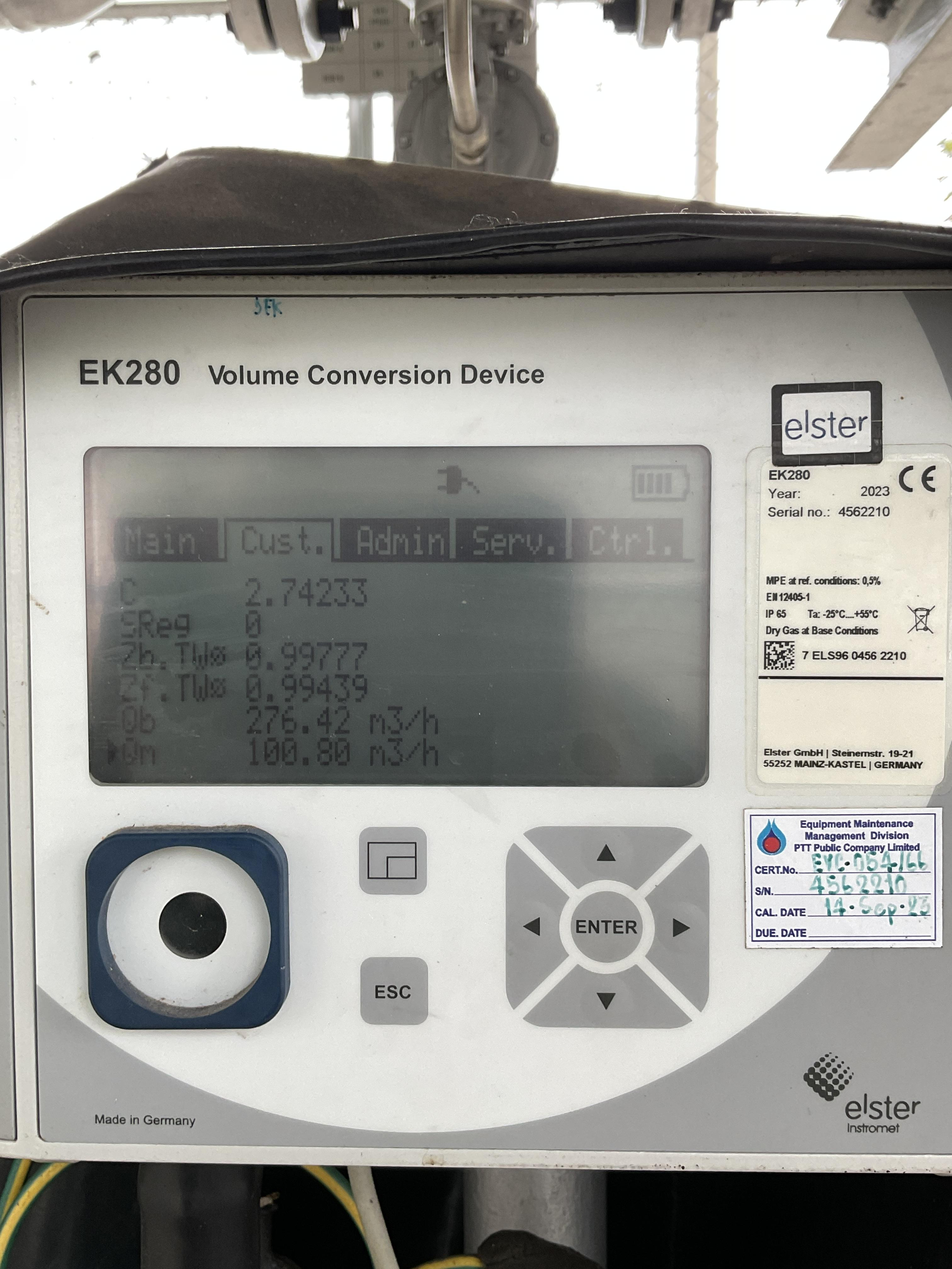digital_screen: (87, 448, 708, 786)
